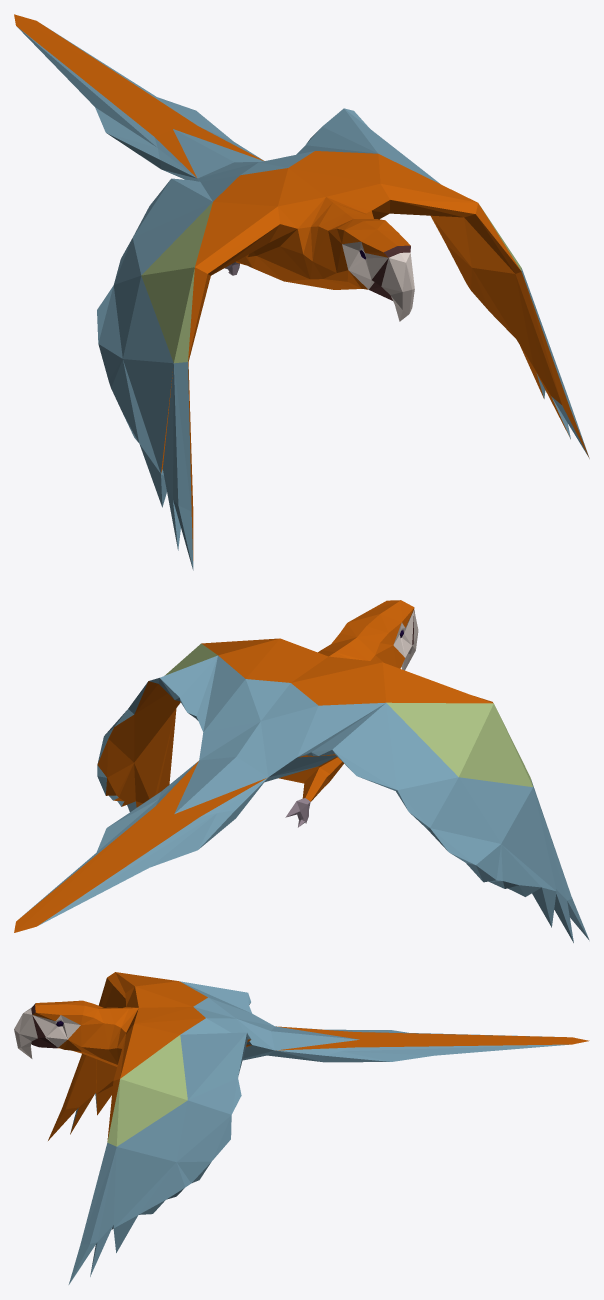
Rendered from Parrot.gltf.
The picture shows the model from 3 angles, top to bottom: view 1: azimuth 30°, elevation 25°; view 2: azimuth 150°, elevation 25°; view 3: azimuth 270°, elevation 25°; orthographic projection. The views are drawn at different scales.
Visible parts, largest first — view 1: mesh_0; view 2: mesh_0; view 3: mesh_0.
Part boxes in pixels (x1,y1,x2,y2): mesh_0: (14, 14, 589, 570); mesh_0: (14, 600, 589, 942); mesh_0: (14, 972, 589, 1284).
Bounding box in the file's own units: 60.4 × 40.68 × 101.
